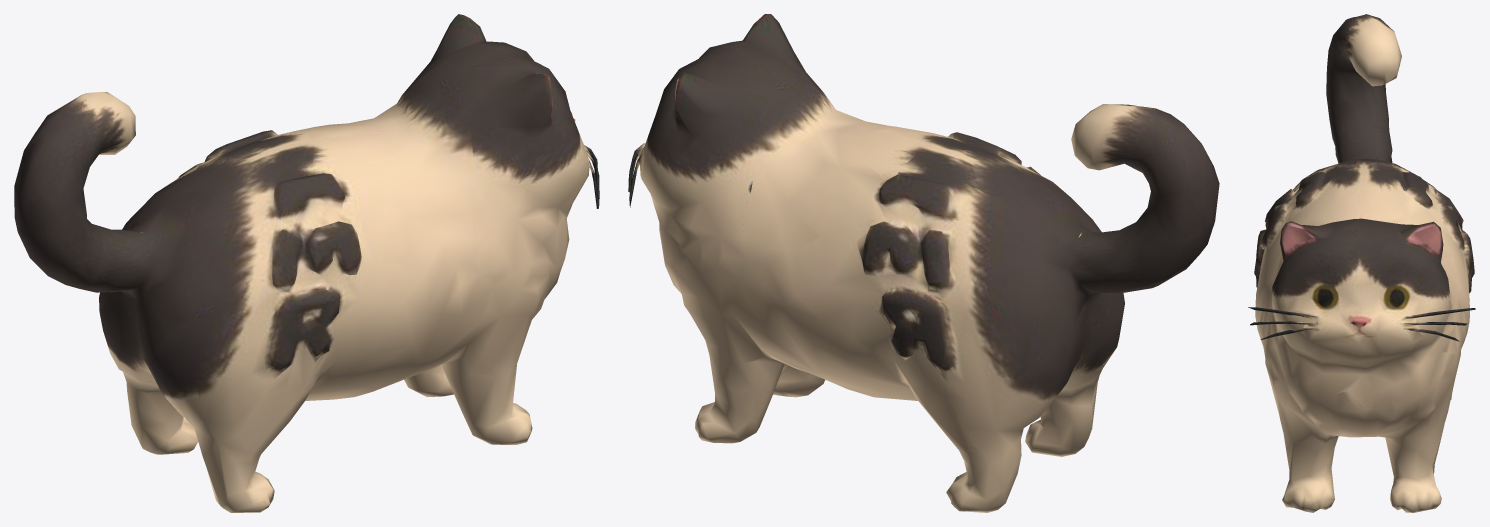
File: AMRCAT-lo.glb
3 renders of one model, left to right at view 1: azimuth 30°, elevation 25°; view 2: azimuth 150°, elevation 25°; view 3: azimuth 270°, elevation 25°, orthographic. The views are drawn at different scales.
Parts seen in each view (by area): view 1: tripo_node_dea9a752-9068-49e7-b13a-117792816362; view 2: tripo_node_dea9a752-9068-49e7-b13a-117792816362; view 3: tripo_node_dea9a752-9068-49e7-b13a-117792816362.
Boxes of the visible parts, box(x1,y1,x2,y2) form: tripo_node_dea9a752-9068-49e7-b13a-117792816362: box(14, 14, 599, 512); tripo_node_dea9a752-9068-49e7-b13a-117792816362: box(628, 14, 1219, 512); tripo_node_dea9a752-9068-49e7-b13a-117792816362: box(1248, 14, 1475, 512).
Size of the model in its own units: 1.43 by 1 by 0.6174.
1 material, 1 textured.
